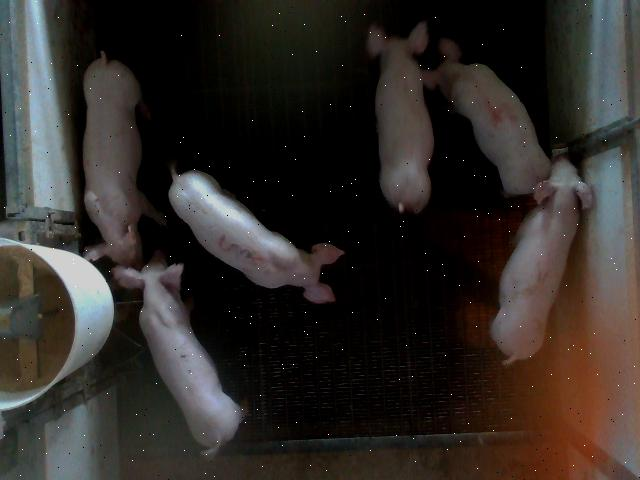pig-3: (169, 166, 344, 303)
pig-4: (422, 36, 551, 196)
